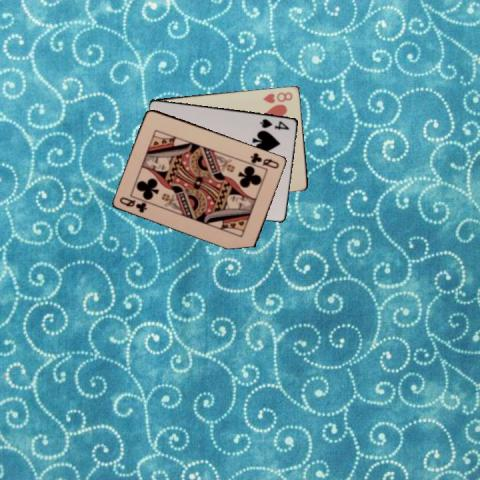4s: (257, 115, 291, 131)
8h: (260, 89, 294, 105)
Qc: (247, 149, 281, 170), (117, 194, 148, 214)
